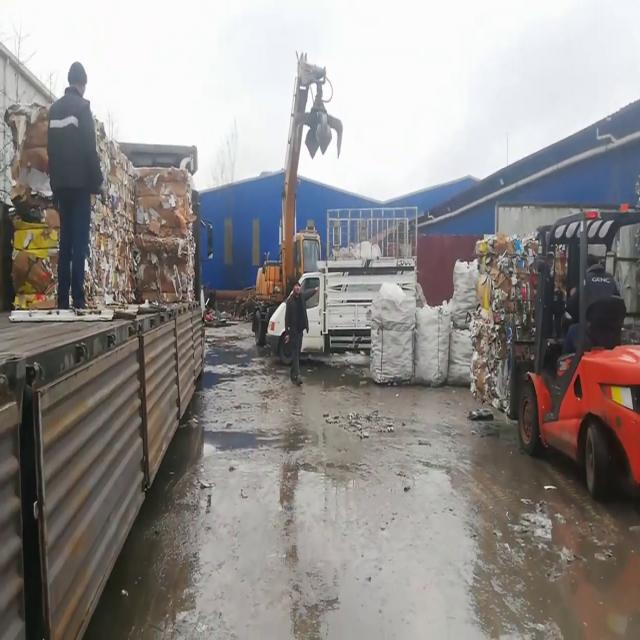Chariot elevateur: (516, 199, 640, 513)
